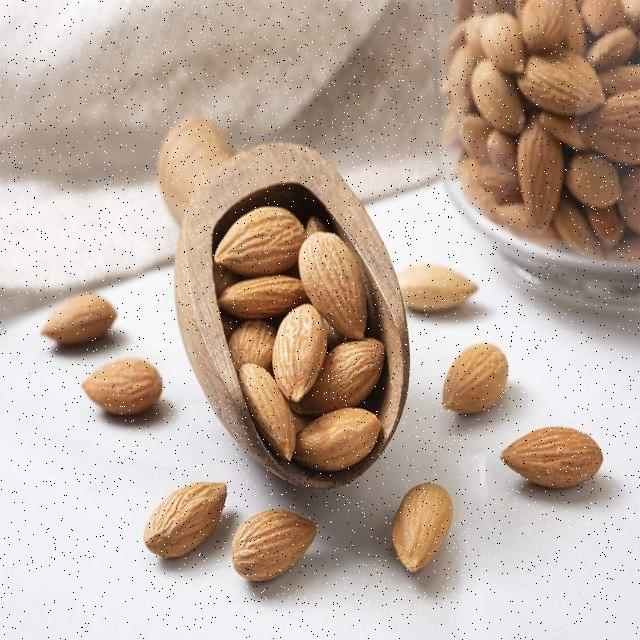cekirdek: (457, 0, 609, 216), (314, 231, 378, 322), (91, 347, 164, 412), (160, 490, 223, 559), (453, 347, 511, 415), (512, 432, 598, 474), (228, 200, 288, 252), (392, 487, 443, 546), (48, 302, 112, 345), (244, 521, 301, 568), (254, 382, 287, 456), (291, 313, 322, 387), (409, 264, 458, 302), (330, 425, 374, 466), (339, 342, 384, 377), (244, 330, 268, 373), (243, 295, 297, 311)
